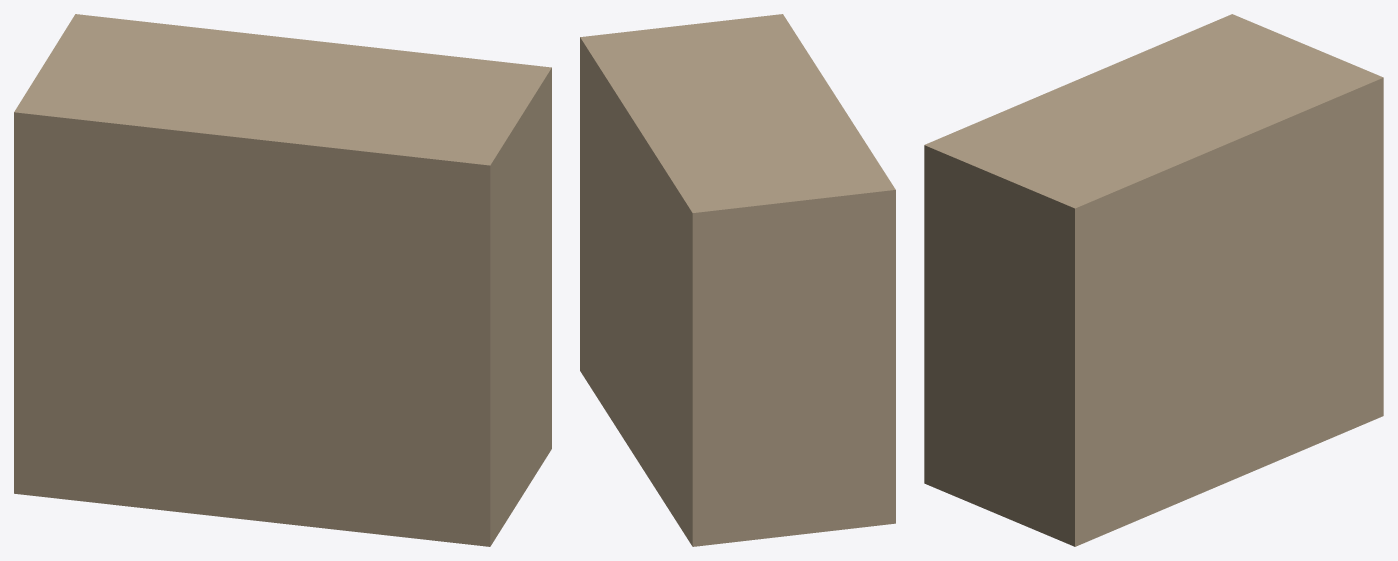
Rendered from bld_100478366.dae.
3 renders of one model, left to right at view 1: azimuth 30°, elevation 25°; view 2: azimuth 150°, elevation 25°; view 3: azimuth 270°, elevation 25°, orthographic. The views are drawn at different scales.
Parts seen in each view (by area): view 1: bld_100478366; view 2: bld_100478366; view 3: bld_100478366.
Boxes of the visible parts, x1,y1,x2,y2 form: bld_100478366: (14, 14, 551, 546); bld_100478366: (580, 14, 895, 546); bld_100478366: (924, 14, 1383, 546).
Bounding box in the file's own units: 9.86 × 9.85 × 8.
